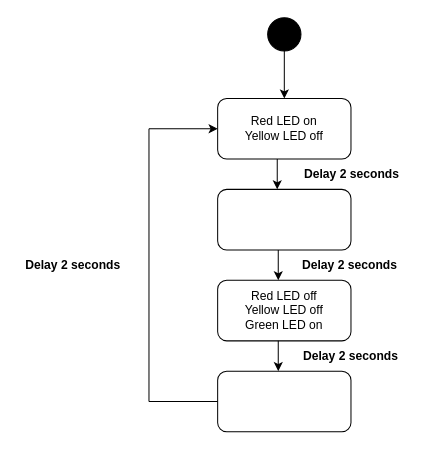
Some shapes in this 424 by 449 pixel diagram are drawn without their labels. The centre of each missing label's shape, as x and y in pixels:
Green LED off Yellow LED on: the point at 284,401
Yellow LED on: the point at 284,219
